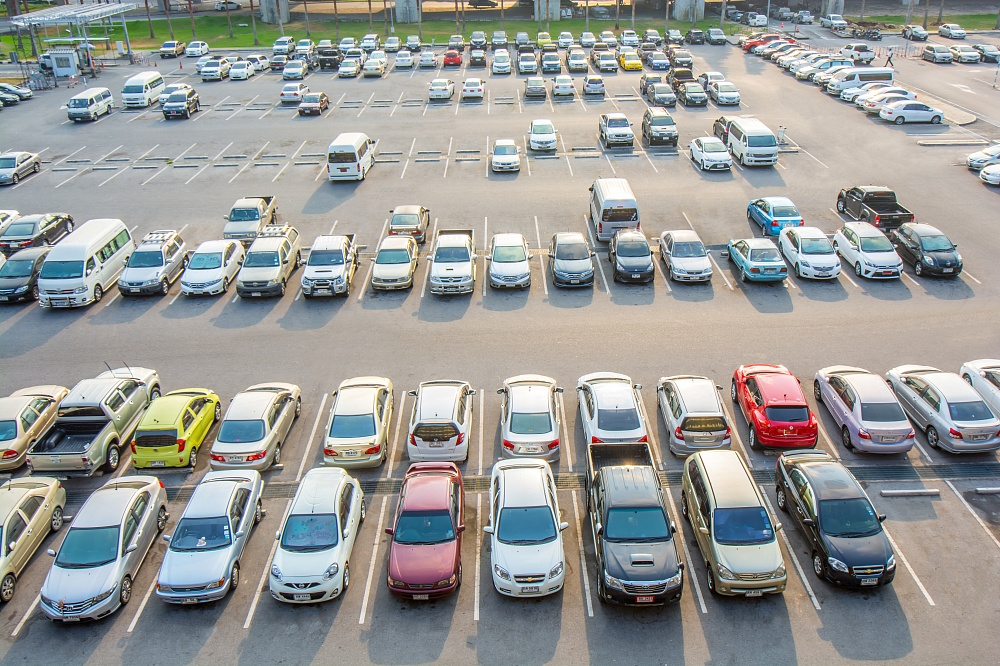Car: (40, 476, 168, 623), (775, 450, 897, 588), (26, 360, 162, 480), (585, 443, 683, 606), (681, 450, 787, 598), (156, 471, 264, 605), (269, 468, 366, 603), (485, 459, 568, 598), (385, 462, 465, 601), (885, 365, 1000, 454), (814, 365, 915, 454), (38, 219, 136, 309), (0, 478, 66, 603), (210, 383, 302, 471), (731, 364, 818, 449), (131, 388, 221, 469), (322, 376, 393, 468), (657, 375, 732, 457), (0, 386, 68, 471), (497, 375, 563, 462), (407, 380, 476, 462), (577, 372, 648, 444), (236, 224, 302, 298), (117, 230, 189, 296), (833, 222, 903, 279), (837, 185, 915, 236), (891, 223, 963, 277), (301, 234, 358, 298), (181, 240, 244, 296), (427, 230, 478, 296), (0, 213, 75, 257), (589, 178, 640, 241), (779, 227, 840, 279), (0, 246, 54, 303), (223, 196, 278, 247), (660, 230, 712, 282), (485, 233, 533, 289), (727, 239, 788, 283), (371, 236, 418, 291), (549, 232, 596, 287), (608, 230, 654, 283), (728, 118, 778, 166), (960, 359, 1000, 418), (327, 133, 375, 181), (747, 197, 804, 237), (827, 67, 894, 95), (66, 87, 114, 122), (388, 205, 430, 244), (121, 71, 165, 108), (879, 100, 944, 125), (796, 57, 855, 82), (642, 107, 679, 146), (690, 137, 732, 171), (0, 152, 41, 185), (854, 86, 917, 107), (790, 53, 849, 74), (598, 113, 634, 147), (741, 33, 797, 54), (163, 88, 200, 119), (818, 66, 863, 91), (490, 139, 521, 172), (863, 94, 911, 115), (840, 83, 892, 102), (527, 119, 558, 150), (966, 144, 1000, 171), (780, 51, 819, 72), (201, 56, 232, 82), (812, 65, 854, 84), (666, 68, 699, 92), (839, 43, 876, 64), (159, 83, 192, 106), (710, 81, 741, 105), (678, 83, 708, 107), (647, 83, 677, 107), (298, 92, 329, 115), (762, 44, 807, 59), (713, 116, 737, 144), (280, 83, 310, 103), (922, 44, 953, 63), (318, 49, 346, 70), (566, 48, 589, 73), (0, 83, 33, 100), (292, 51, 320, 71), (429, 79, 455, 100), (282, 60, 308, 81), (950, 45, 980, 63), (972, 44, 1000, 63), (462, 78, 486, 100), (229, 61, 255, 81), (698, 72, 725, 91), (640, 73, 663, 95), (551, 75, 574, 97), (594, 51, 618, 72), (0, 209, 20, 234), (979, 164, 1000, 187), (272, 36, 296, 56), (755, 41, 789, 55), (343, 49, 368, 68), (771, 48, 807, 61), (524, 77, 546, 98), (583, 75, 605, 96), (670, 49, 693, 69), (358, 33, 381, 53), (619, 52, 643, 71), (160, 41, 186, 58), (516, 44, 537, 65), (541, 52, 561, 74), (636, 43, 659, 62), (338, 59, 361, 78), (647, 51, 670, 70), (853, 26, 882, 41), (819, 14, 848, 29), (518, 53, 538, 74), (938, 24, 966, 39), (363, 59, 385, 78), (492, 52, 511, 74), (902, 25, 928, 41), (246, 55, 270, 72), (590, 43, 610, 63), (186, 40, 209, 57), (738, 32, 768, 45), (268, 55, 292, 71), (491, 30, 509, 51), (775, 51, 803, 64), (539, 44, 559, 62), (469, 30, 487, 50), (705, 28, 726, 45), (514, 31, 532, 50), (368, 51, 388, 68), (491, 48, 511, 65), (443, 50, 463, 67), (642, 29, 662, 46), (663, 29, 684, 45), (790, 11, 815, 24), (196, 56, 214, 74), (395, 51, 414, 68), (419, 52, 438, 69), (598, 30, 617, 47), (620, 29, 639, 46), (685, 29, 705, 45), (214, 0, 243, 11), (295, 38, 316, 53), (338, 37, 359, 52), (662, 44, 681, 60), (614, 46, 634, 61), (0, 90, 20, 105), (316, 40, 337, 54), (469, 49, 486, 66), (558, 31, 575, 48), (448, 34, 465, 51), (579, 31, 597, 47), (773, 7, 795, 20), (565, 45, 584, 60), (740, 11, 760, 25), (224, 54, 245, 67), (536, 32, 552, 49), (384, 37, 402, 52), (748, 14, 768, 27), (37, 54, 53, 70), (405, 35, 421, 51), (468, 0, 498, 8), (760, 4, 778, 16), (725, 5, 739, 18), (731, 11, 745, 21), (560, 0, 579, 7), (707, 2, 720, 12), (0, 252, 8, 268), (519, 0, 534, 7), (0, 100, 4, 110)
